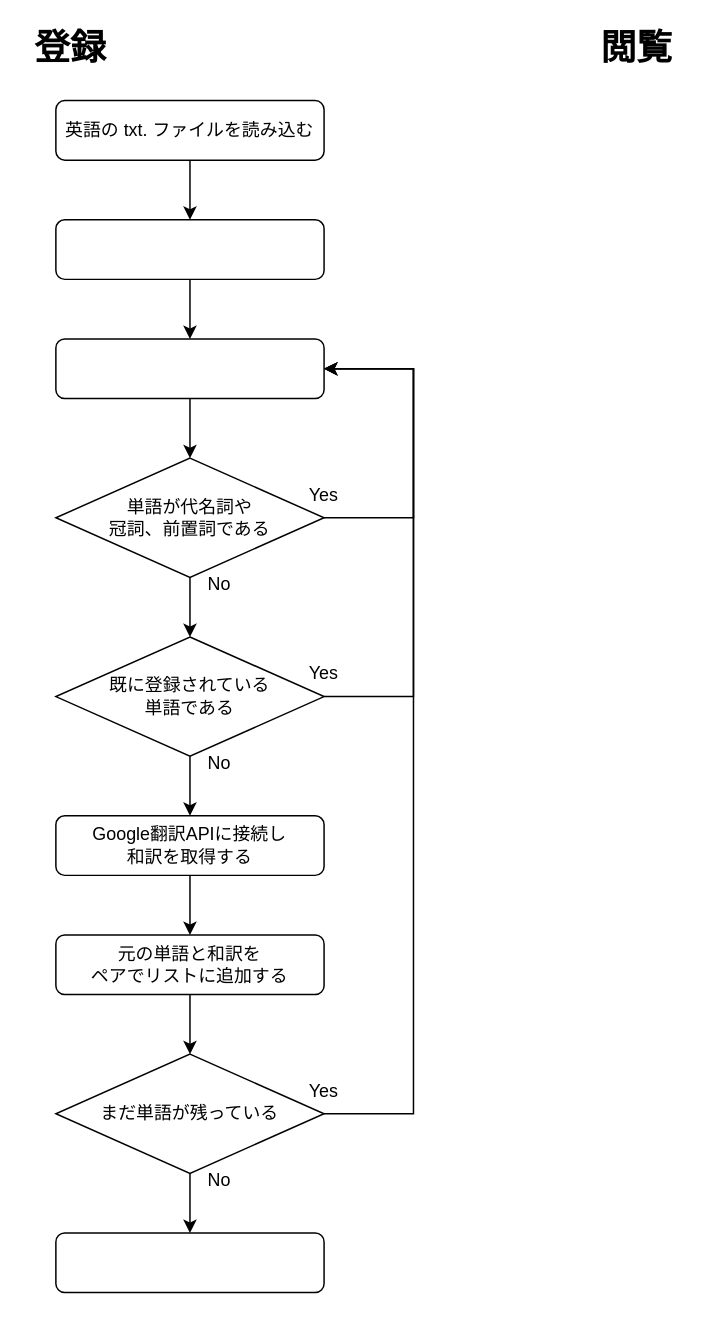
Image size: 706x1319. Some labels were removed from this diagram. Here are the shapes that lost their labels. From the top down, the centre of each, then its label:
At (189,248): "ファイル内の文章を 単語で区切る".
At (189,368): "単語を１つずつ取り出す".
At (189,1262): "登録完了".
